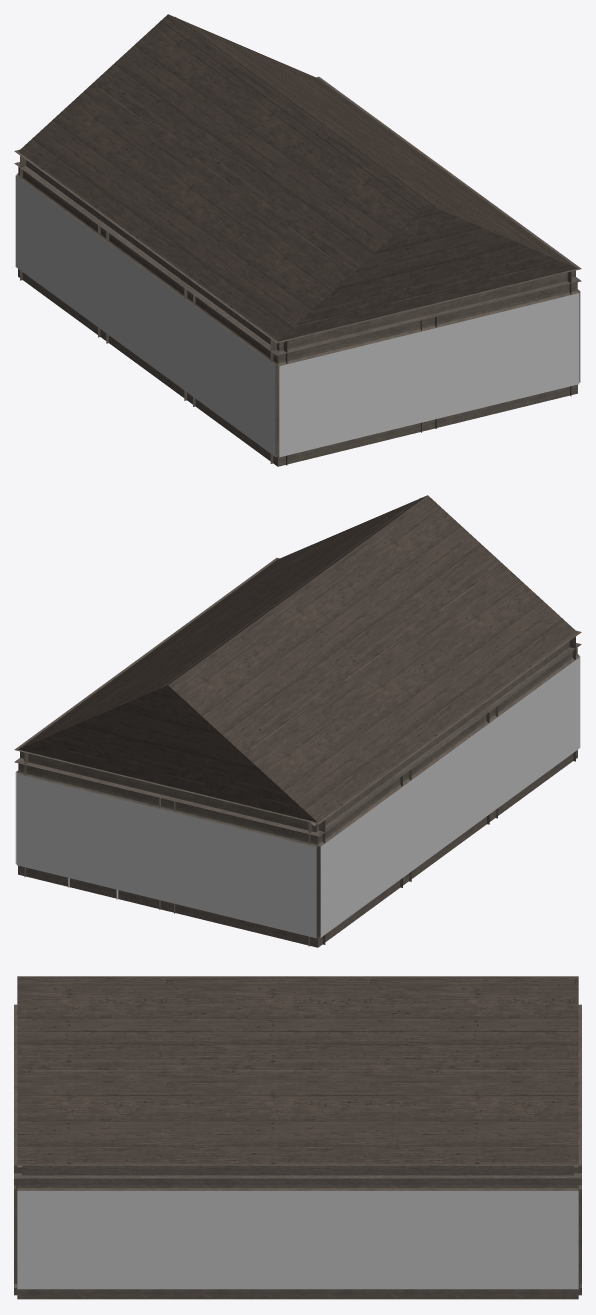
File: house_interior6.fbx
3 renders of one model, top to bottom at view 1: azimuth 30°, elevation 25°; view 2: azimuth 150°, elevation 25°; view 3: azimuth 270°, elevation 25°, orthographic. The views are drawn at different scales.
Parts seen in each view (by area): view 1: house_interior6; view 2: house_interior6; view 3: house_interior6.
Boxes of the visible parts, box(x1,y1,x2,y2) form: house_interior6: box(14, 14, 581, 466); house_interior6: box(14, 495, 581, 947); house_interior6: box(14, 976, 581, 1299).
Size of the model in its own units: 1017 by 720 by 1517.
